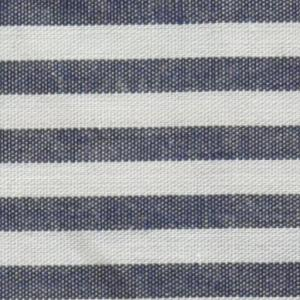Wrinkle: (59, 215, 139, 300)
